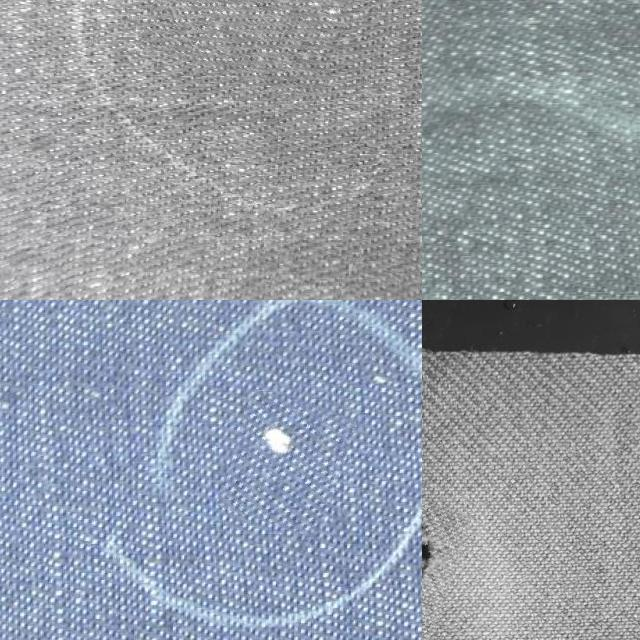Thread_other: (162, 0, 396, 90), (223, 394, 348, 532)
seam: (422, 487, 462, 640)
